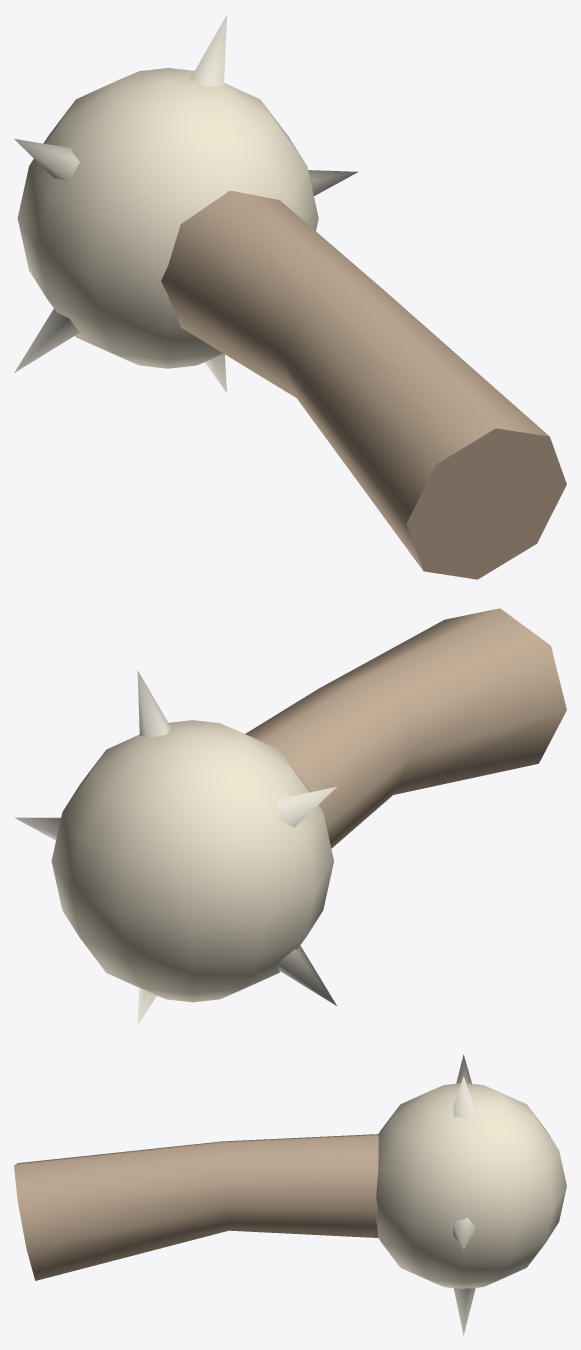
File: cr_tail_b.fbx
The picture shows the model from 3 angles, top to bottom: view 1: azimuth 30°, elevation 25°; view 2: azimuth 150°, elevation 25°; view 3: azimuth 270°, elevation 25°; orthographic projection. The views are drawn at different scales.
Parts seen in each view (by area): view 1: Tail; view 2: Tail; view 3: Tail.
Part boxes in pixels (x1=…): Tail: x1=14, y1=15, x2=566, y2=579; Tail: x1=14, y1=608, x2=566, y2=1024; Tail: x1=14, y1=1054, x2=566, y2=1335.
Size of the model in its own units: 0.3437 by 0.3614 by 0.6957.
